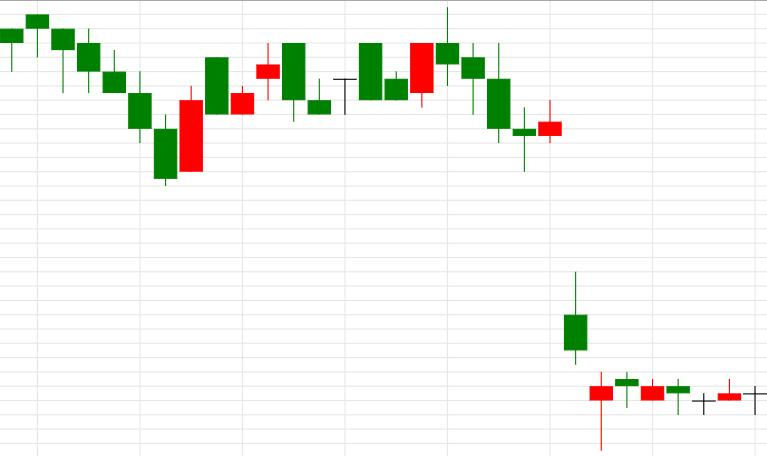inverse_hammer_rise: (436, 6, 587, 364)
